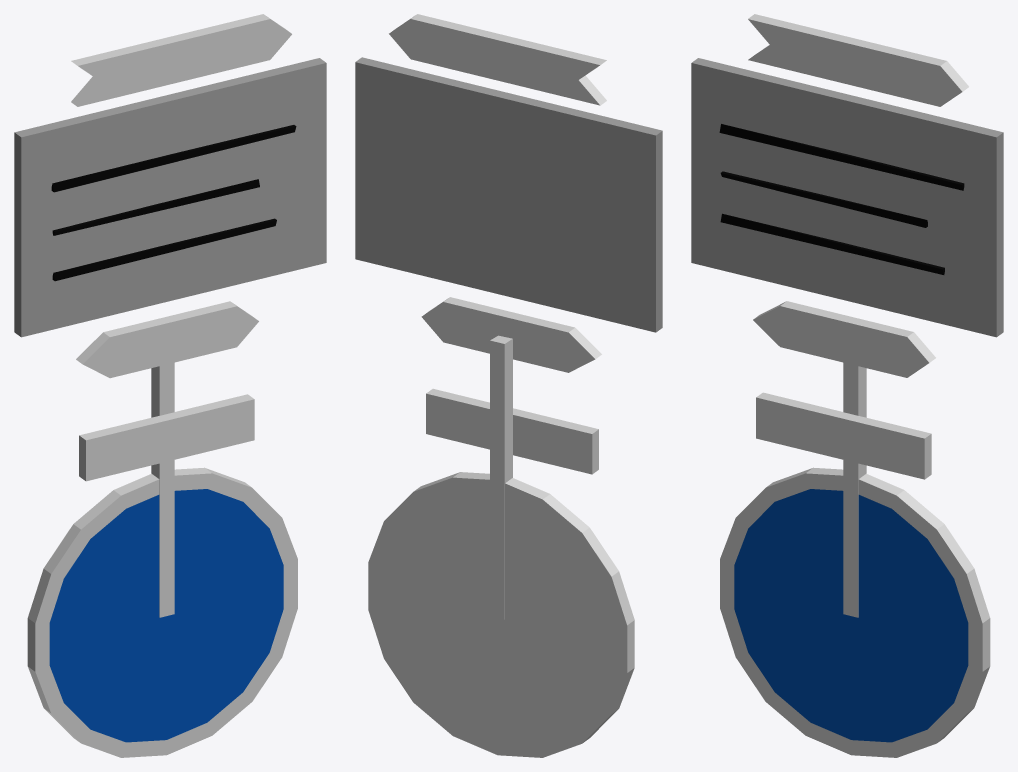
File: SignProcedural.fbx
3 views of the same model, side by side, from view 1: azimuth 30°, elevation 25°; view 2: azimuth 150°, elevation 25°; view 3: azimuth 330°, elevation 25° (orthographic).
Visible parts, largest first — view 1: SignText, SignImage, SignArrow1, SignArrow3, SignArrow2, SignPost; view 2: SignText, SignImage, SignArrow1, SignArrow3, SignArrow2, SignPost; view 3: SignText, SignImage, SignArrow1, SignArrow3, SignArrow2, SignPost.
Boxes of the visible parts, box(x1,y1,x2,y2) form: SignText: box(14, 58, 326, 337); SignImage: box(27, 467, 297, 757); SignArrow1: box(71, 14, 291, 106); SignArrow3: box(79, 394, 254, 481); SignArrow2: box(76, 301, 258, 378); SignPost: box(151, 362, 174, 617); SignText: box(355, 57, 662, 332); SignImage: box(368, 472, 634, 757); SignArrow1: box(389, 14, 606, 105); SignArrow3: box(426, 388, 598, 474); SignArrow2: box(421, 297, 601, 372); SignPost: box(490, 335, 512, 619); SignText: box(691, 58, 1003, 337); SignImage: box(720, 467, 990, 757); SignArrow1: box(748, 14, 968, 106); SignArrow3: box(756, 392, 931, 479); SignArrow2: box(753, 301, 935, 377); SignPost: box(843, 362, 866, 617).
Size of the model in its own units: 114 by 257 by 11.39.
